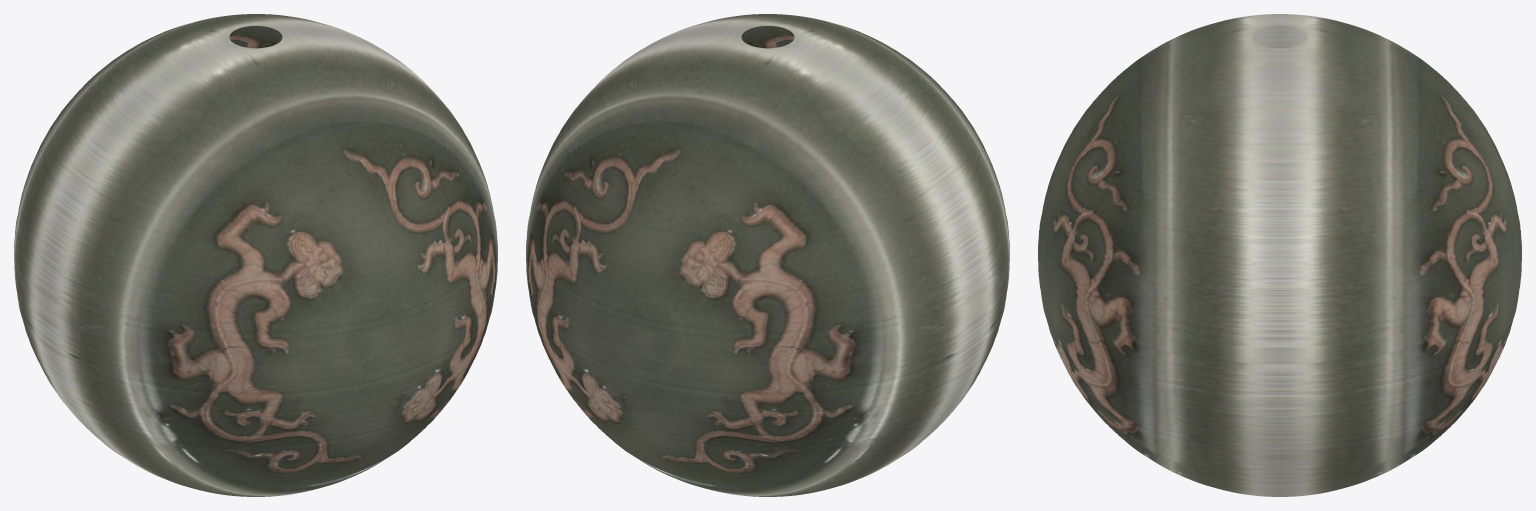
The model's file is cma-140186.glb.
3 views of the same model, side by side, from view 1: azimuth 30°, elevation 25°; view 2: azimuth 150°, elevation 25°; view 3: azimuth 270°, elevation 25° (orthographic).
Parts seen in each view (by area): view 1: geometry_0; view 2: geometry_0; view 3: geometry_0.
Boxes of the visible parts, bbox=[...] form: geometry_0: bbox=[14, 14, 497, 496]; geometry_0: bbox=[526, 14, 1009, 496]; geometry_0: bbox=[1038, 14, 1521, 496].
Size of the model in its own units: 30.19 by 30 by 30.19.
1 material, 1 textured.
